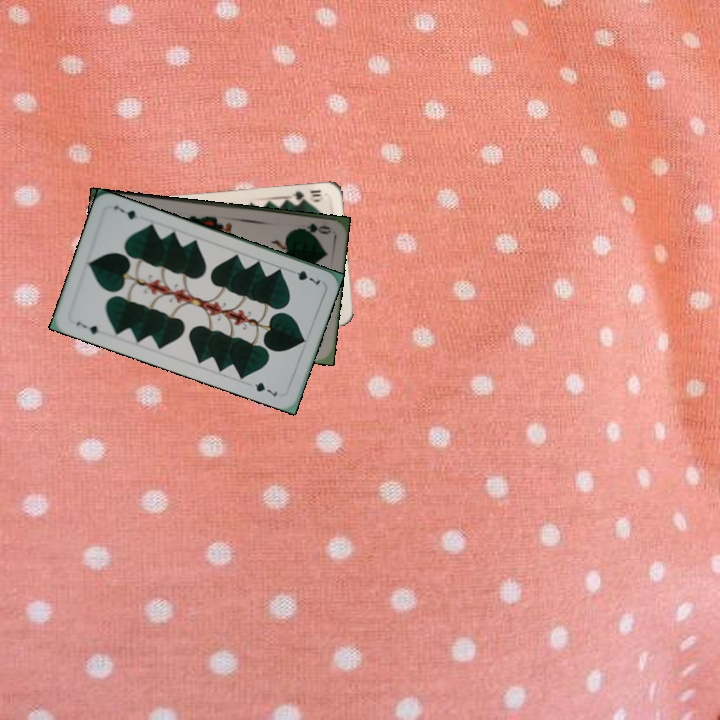G10: (287, 186, 324, 205)
G7: (285, 266, 323, 287), (72, 318, 101, 337)
GO: (291, 219, 332, 237)
